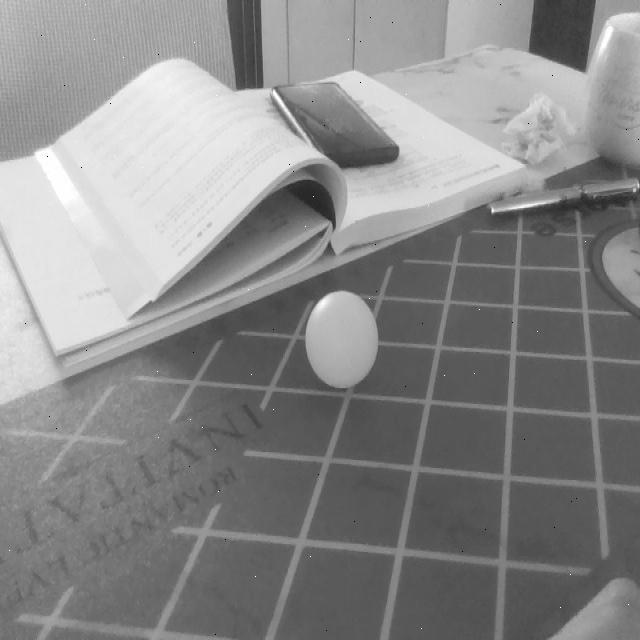ping-pong-ball: (305, 292, 377, 388)
